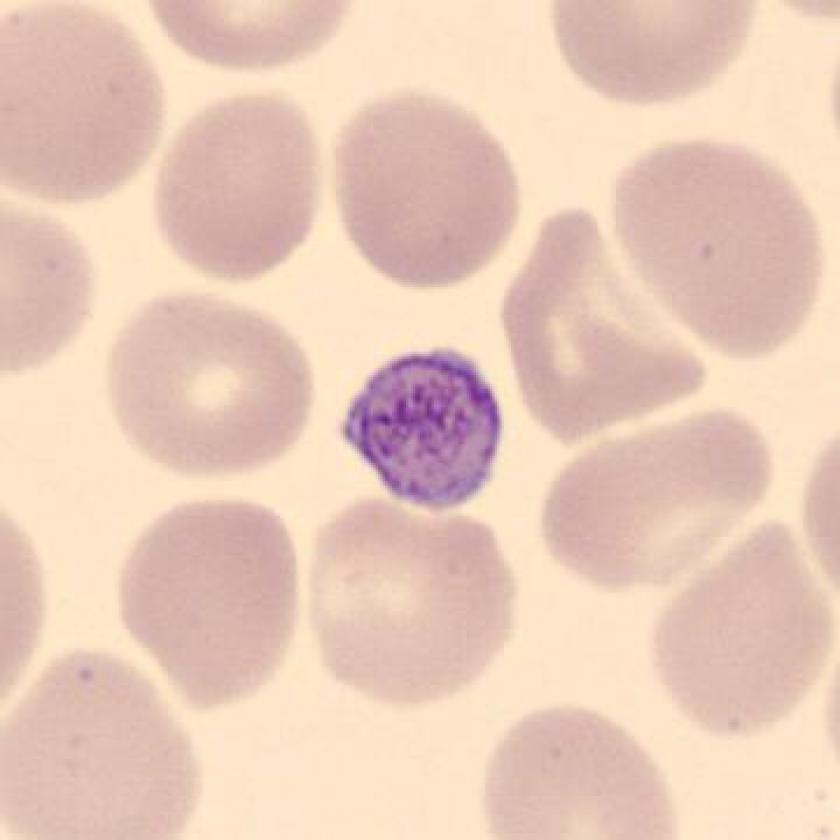platelets: (342, 337, 507, 520)
